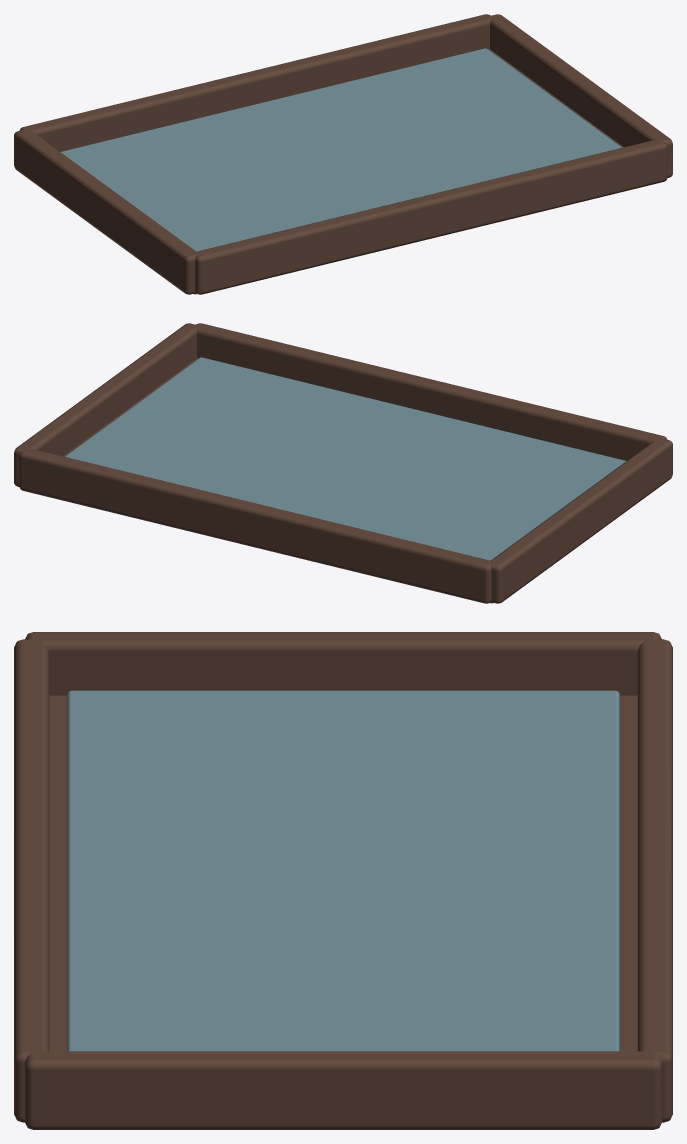
File: tool-tray-v2.glb
3 views of the same model, one above another, from view 1: azimuth 30°, elevation 25°; view 2: azimuth 150°, elevation 25°; view 3: azimuth 270°, elevation 25° (orthographic). The views are drawn at different scales.
Visible parts, largest first — view 1: Blue woven tool cushion, Tray raised side (×2), Tray raised end (×2); view 2: Blue woven tool cushion, Tray raised side (×2), Tray raised end (×2); view 3: Blue woven tool cushion, Tray raised end (×2), Tray raised side (×2), Tray base.
Boxes of the visible parts, x1=… form: Blue woven tool cushion: x1=60, y1=48, x2=621, y2=251; Tray raised side (×2): x1=19, y1=14, x2=667, y2=294; Tray raised end (×2): x1=14, y1=14, x2=672, y2=294; Blue woven tool cushion: x1=65, y1=357, x2=626, y2=560; Tray raised side (×2): x1=19, y1=323, x2=667, y2=603; Tray raised end (×2): x1=14, y1=323, x2=672, y2=603; Blue woven tool cushion: x1=67, y1=690, x2=619, y2=1051; Tray raised end (×2): x1=24, y1=632, x2=662, y2=1129; Tray raised side (×2): x1=14, y1=639, x2=672, y2=1122; Tray base: x1=49, y1=695, x2=637, y2=1051.
Bounding box in the file's own units: 0.725 × 0.0585 × 0.465.
